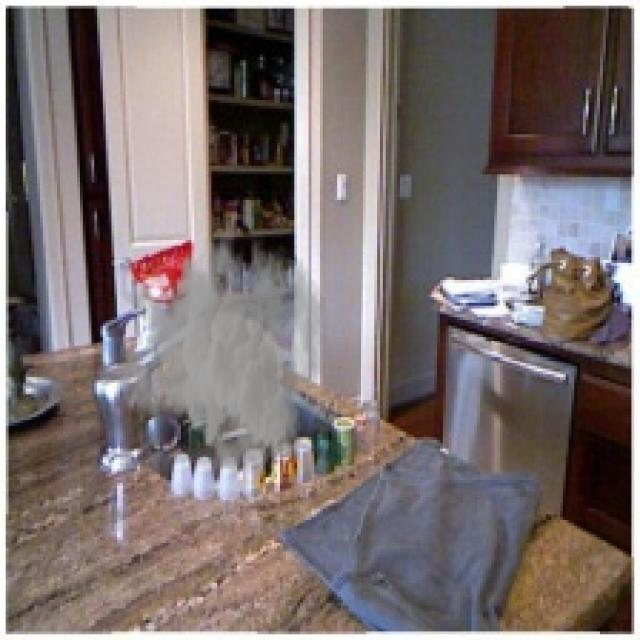Smoke: (120, 211, 332, 486)
